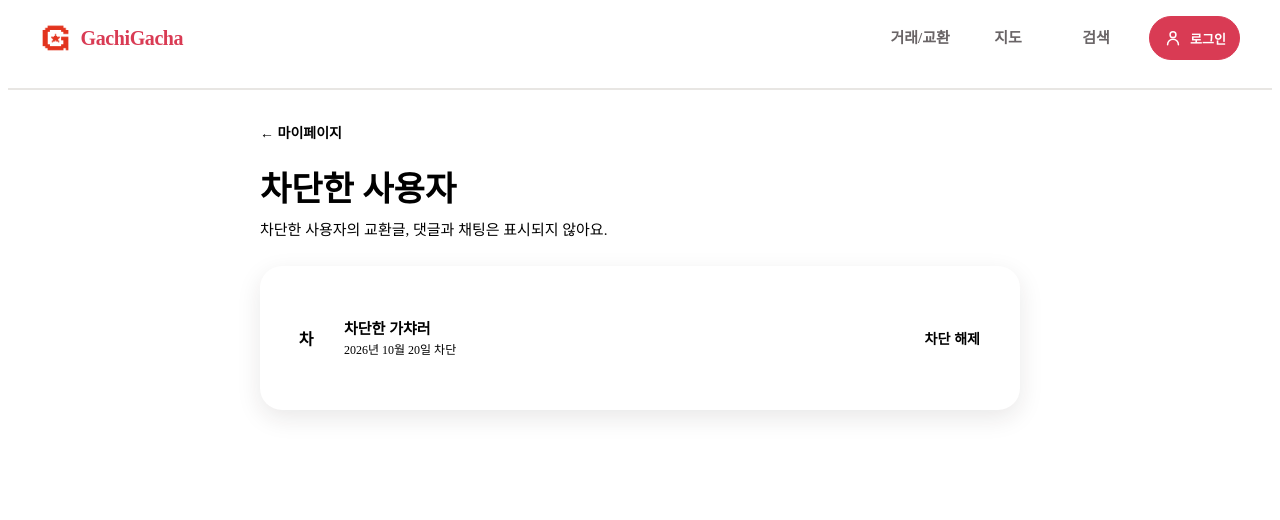
Scenario: BlockedMembersRoute › 차단한 사용자를 보여주고 목록에서 해제한다
Expected: the text "차단한 가챠러" is shown, [344,321,431,337]
Click the button "차단 해제" at (952, 338), box [909,318,996,358]
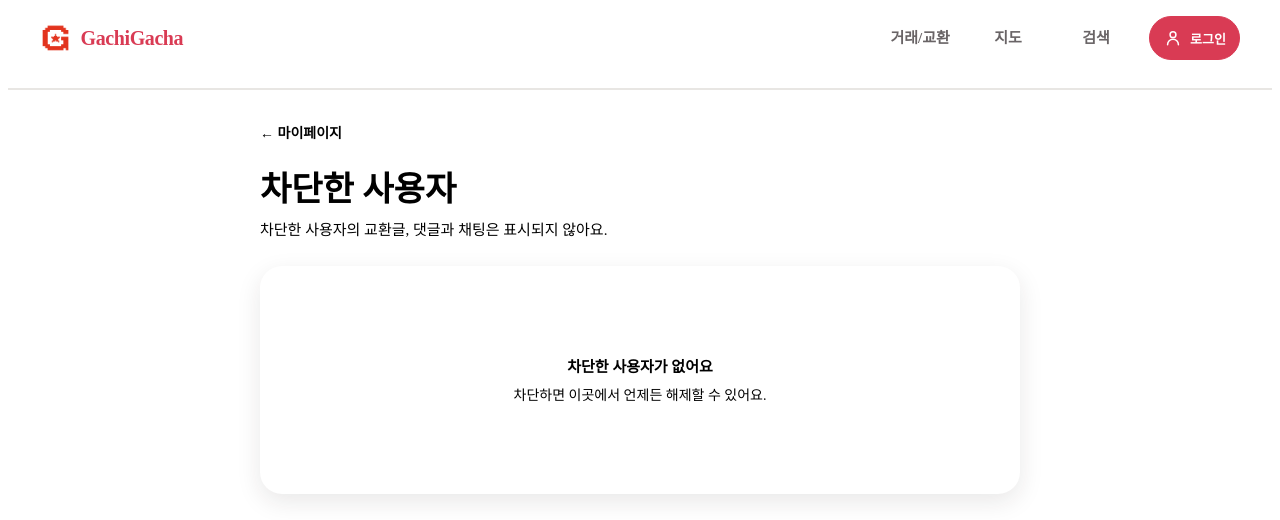
Now the text "차단한 사용자가 없어요" is shown, box [567,355,713,376]
